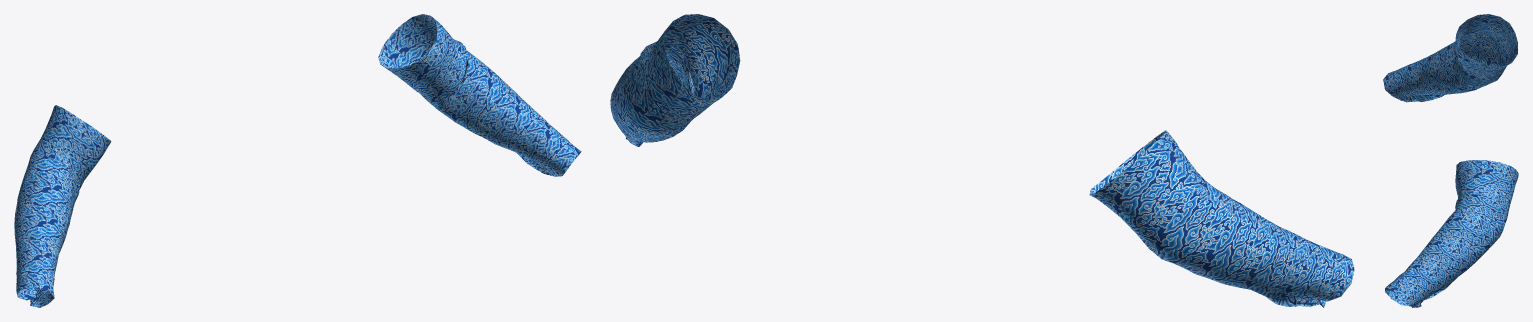
File: TambahanLengan.fbx
3 views of the same model, side by side, from view 1: azimuth 30°, elevation 25°; view 2: azimuth 150°, elevation 25°; view 3: azimuth 270°, elevation 25° (orthographic). The views are drawn at different scales.
Parts seen in each view (by area): view 1: Tambahan Lengan; view 2: Tambahan Lengan; view 3: Tambahan Lengan.
Part boxes in pixels (bbox=[...]): Tambahan Lengan: bbox=[14, 14, 581, 307]; Tambahan Lengan: bbox=[610, 14, 1354, 307]; Tambahan Lengan: bbox=[1383, 14, 1518, 307].
Bounding box in the file's own units: 1030 × 254 × 262.
Materials: 1 (1 with a texture image).
